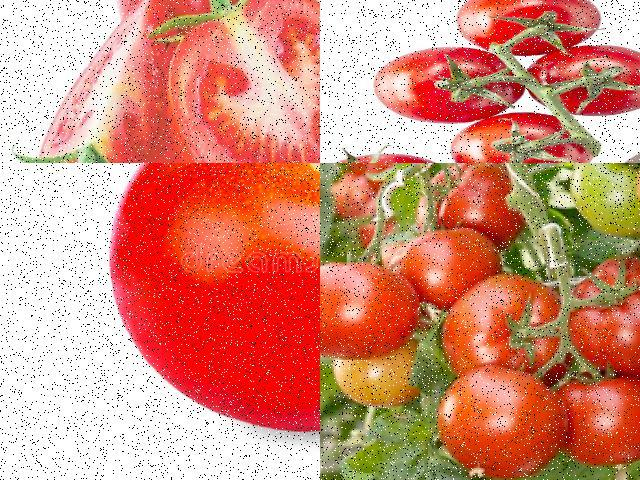tomato: (97, 163, 319, 454), (437, 270, 574, 388), (439, 363, 573, 479), (362, 44, 534, 124), (320, 262, 416, 362), (564, 255, 639, 381), (419, 164, 526, 250), (532, 48, 639, 122), (457, 0, 606, 53), (396, 231, 504, 302), (564, 372, 639, 469), (443, 122, 607, 162)
